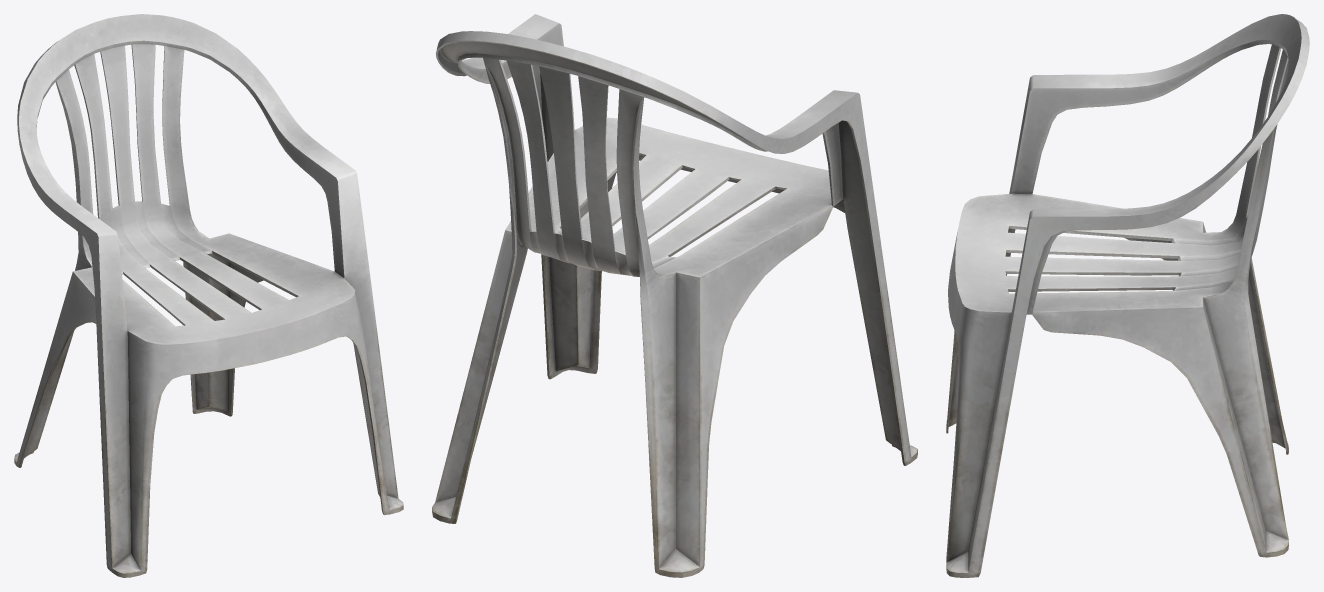
Rendered from monoChair_hq.glb.
The picture shows the model from 3 angles, left to right: view 1: azimuth 30°, elevation 25°; view 2: azimuth 150°, elevation 25°; view 3: azimuth 270°, elevation 25°; orthographic projection. The views are drawn at different scales.
Visible parts, largest first — view 1: plastic_monobloc_chair_01; view 2: plastic_monobloc_chair_01; view 3: plastic_monobloc_chair_01.
Part boxes in pixels (bbox=[...]): plastic_monobloc_chair_01: bbox=[14, 14, 403, 577]; plastic_monobloc_chair_01: bbox=[432, 14, 917, 577]; plastic_monobloc_chair_01: bbox=[946, 14, 1309, 577].
Size of the model in its own units: 0.6418 by 0.8798 by 0.6276.
1 material, 1 textured.
